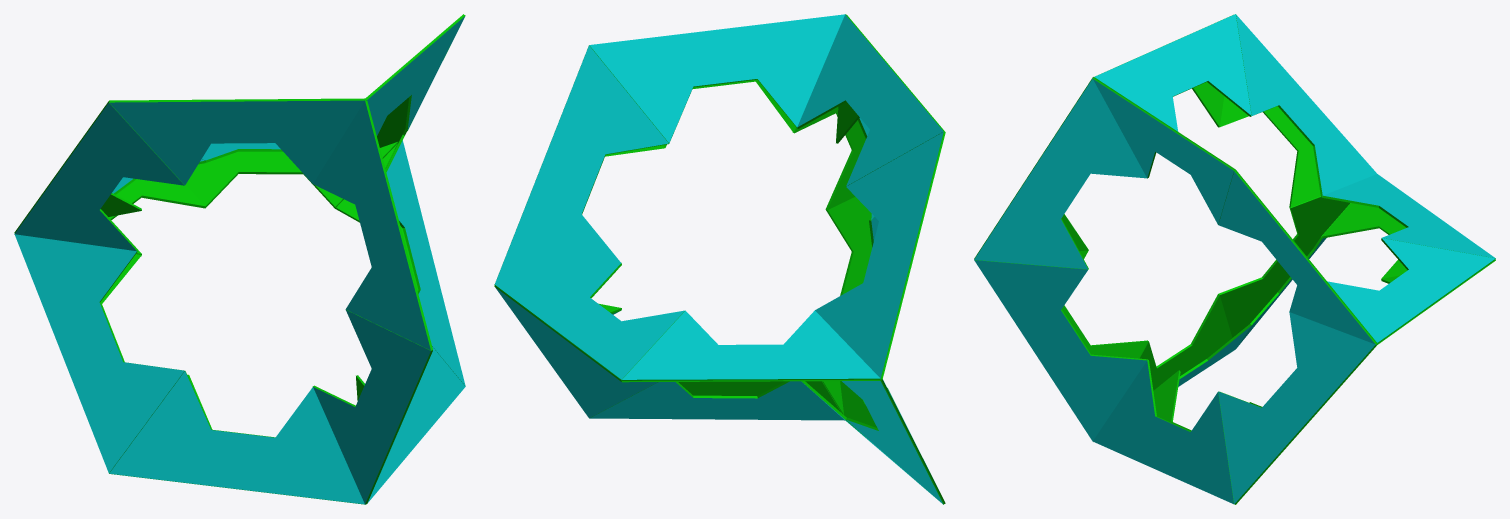
The model's file is Mobius24S.glb.
The picture shows the model from 3 angles, left to right: view 1: azimuth 30°, elevation 25°; view 2: azimuth 150°, elevation 25°; view 3: azimuth 270°, elevation 25°; orthographic projection. The views are drawn at different scales.
Parts seen in each view (by area): view 1: root; view 2: root; view 3: root.
Part boxes in pixels (x1,y1,x2,y2): root: [14, 14, 465, 504]; root: [494, 14, 945, 504]; root: [974, 14, 1495, 504].
Bounding box in the file's own units: 8.62 × 8.62 × 11.17.
